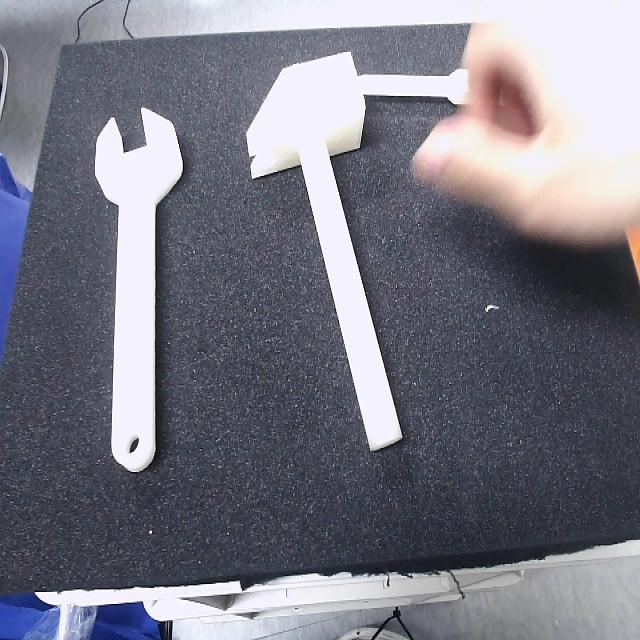Hammer: (249, 51, 403, 455)
Spanner: (93, 111, 183, 475)
